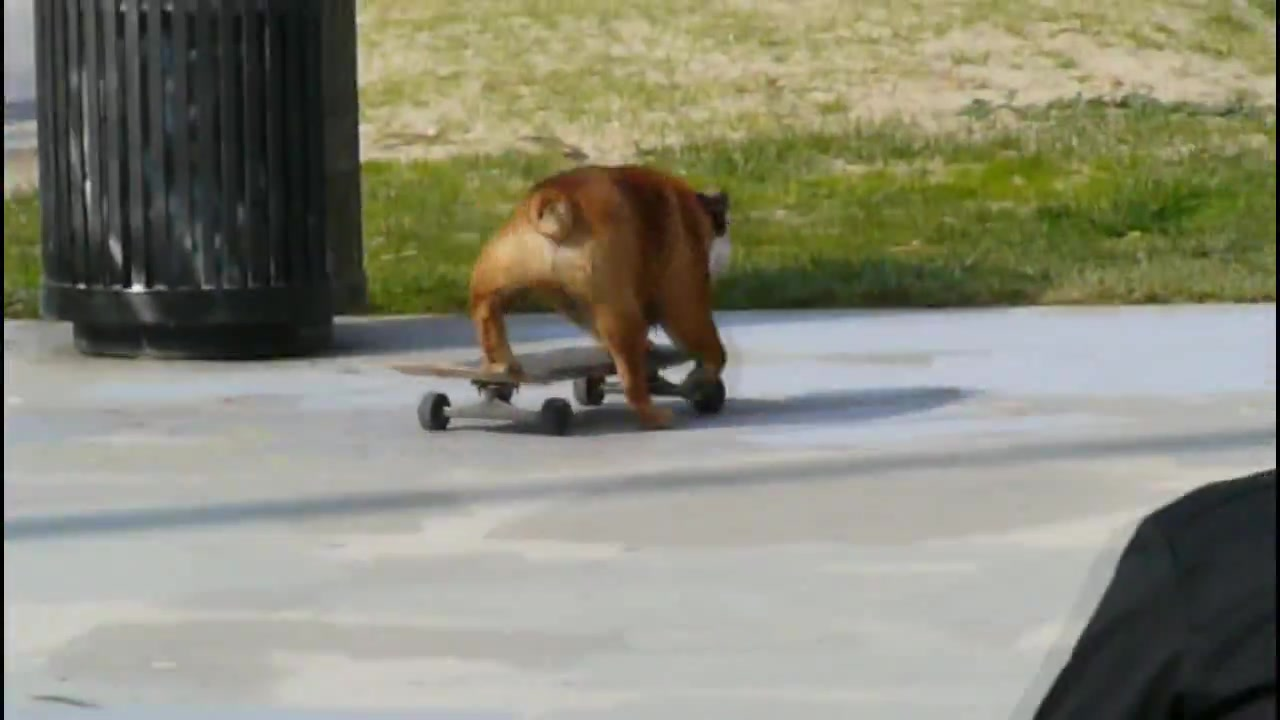dog: (471, 167, 744, 430)
